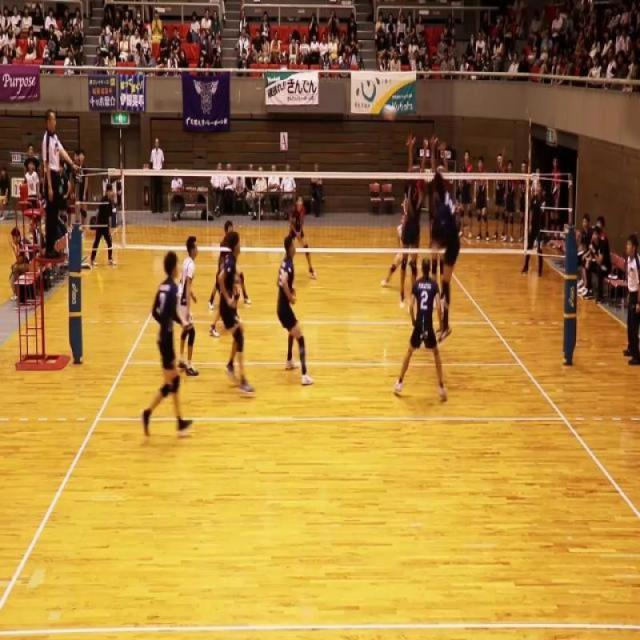volleyball: (383, 104, 396, 122)
